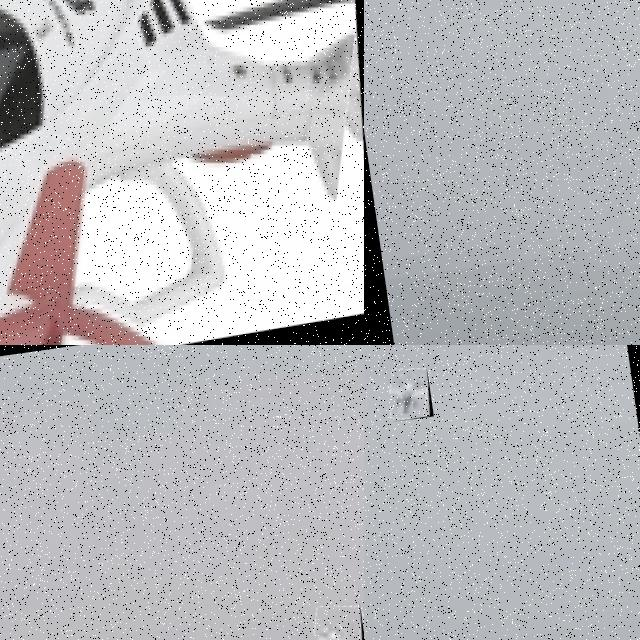drone: (0, 0, 364, 345), (386, 366, 434, 422), (310, 603, 364, 640)
